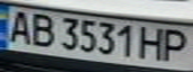1: (115, 21, 139, 57)
3: (54, 16, 81, 52), (97, 20, 118, 56)
5: (75, 17, 100, 54)
A: (3, 8, 36, 44)
B: (24, 11, 57, 47)
H: (136, 25, 169, 61)
P: (160, 27, 193, 63)
